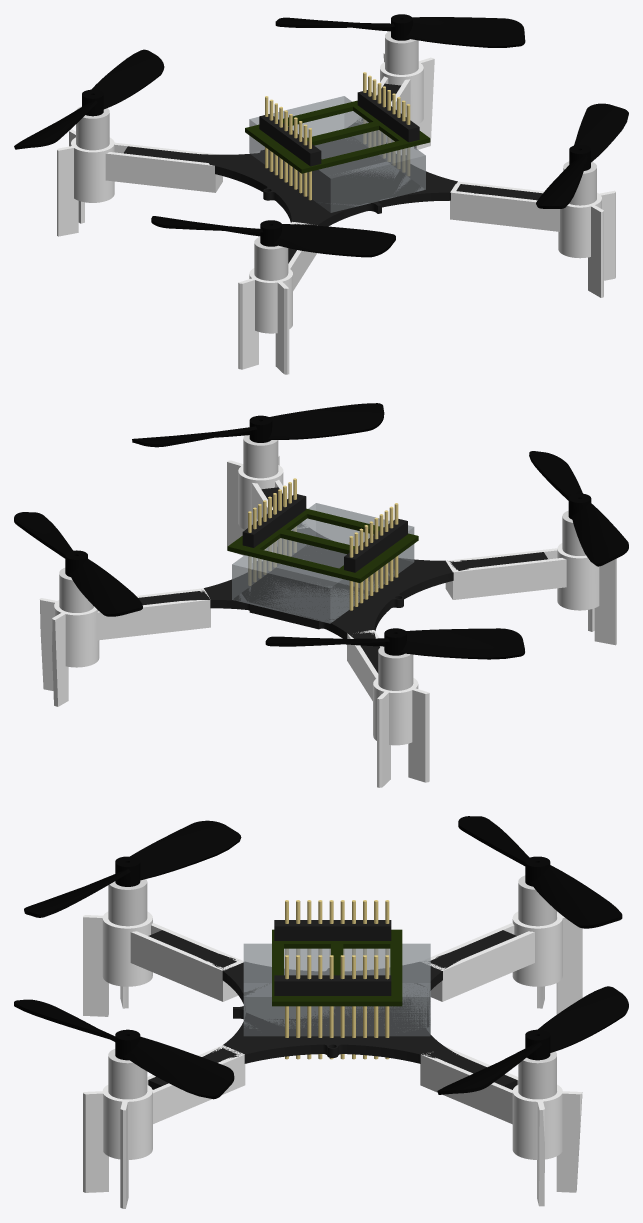
Rendered from crazy_flies.dae.
3 renders of one model, top to bottom at view 1: azimuth 30°, elevation 25°; view 2: azimuth 150°, elevation 25°; view 3: azimuth 270°, elevation 25°, orthographic. The views are drawn at different scales.
Parts seen in each view (by area): view 1: cf2_0; view 2: cf2_0; view 3: cf2_0.
Boxes of the visible parts, <box> form: cf2_0: <box>14,14,628,374</box>; cf2_0: <box>14,403,628,787</box>; cf2_0: <box>14,816,628,1208</box>.
Size of the model in its own units: 0.1055 by 0.098 by 0.031.
